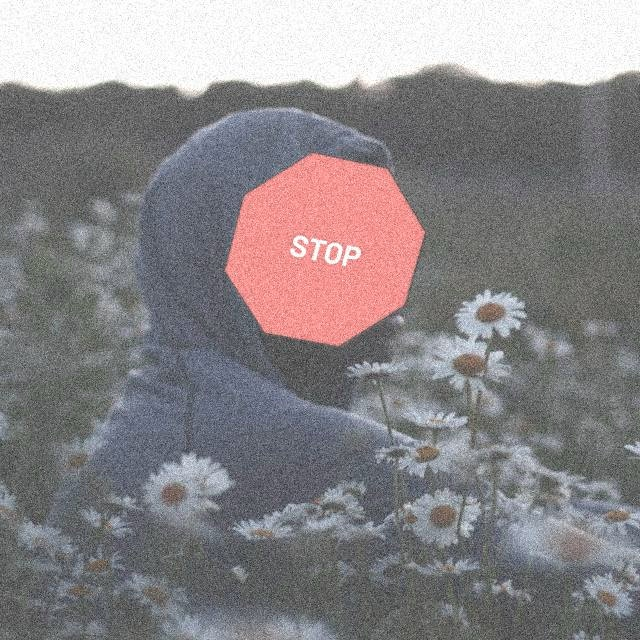STOP: (223, 151, 427, 348)
